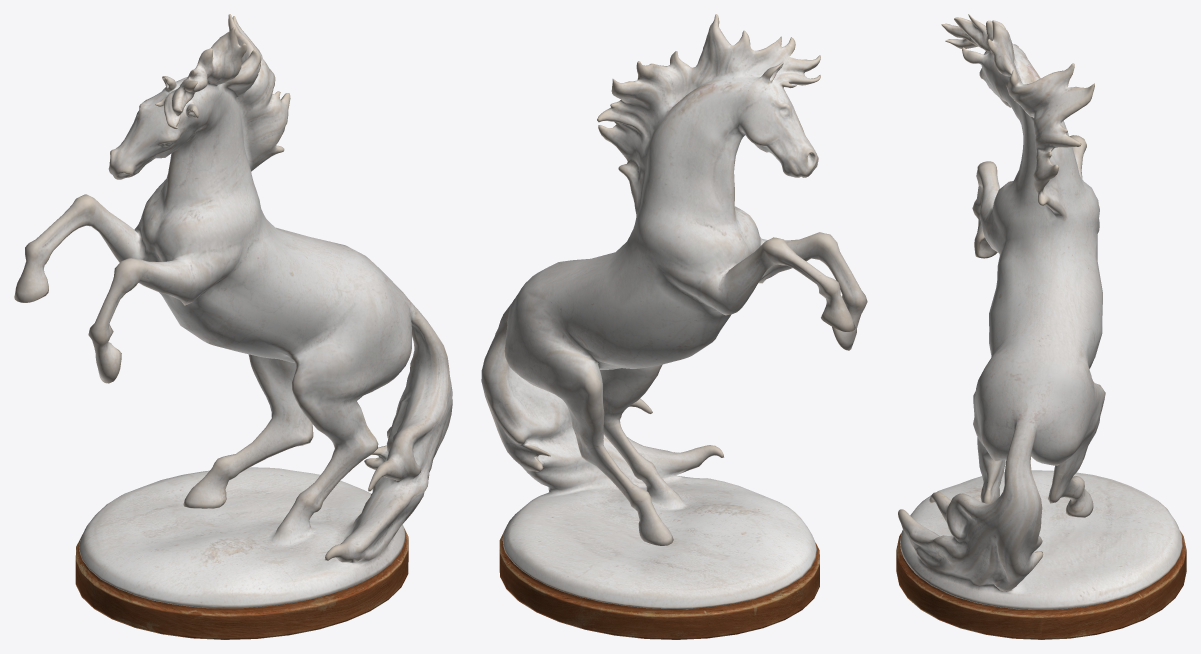
File: caballo.glb
The picture shows the model from 3 angles, left to right: view 1: azimuth 30°, elevation 25°; view 2: azimuth 150°, elevation 25°; view 3: azimuth 270°, elevation 25°; orthographic projection. The views are drawn at different scales.
Parts seen in each view (by area): view 1: horse_statue_01; view 2: horse_statue_01; view 3: horse_statue_01.
Part boxes in pixels (bbox=[...]): horse_statue_01: bbox=[14, 14, 452, 639]; horse_statue_01: bbox=[481, 14, 867, 639]; horse_statue_01: bbox=[896, 14, 1186, 639].
Bounding box in the file's own units: 1.15 × 1.54 × 0.7545.
Materials: 2 (2 with a texture image).
